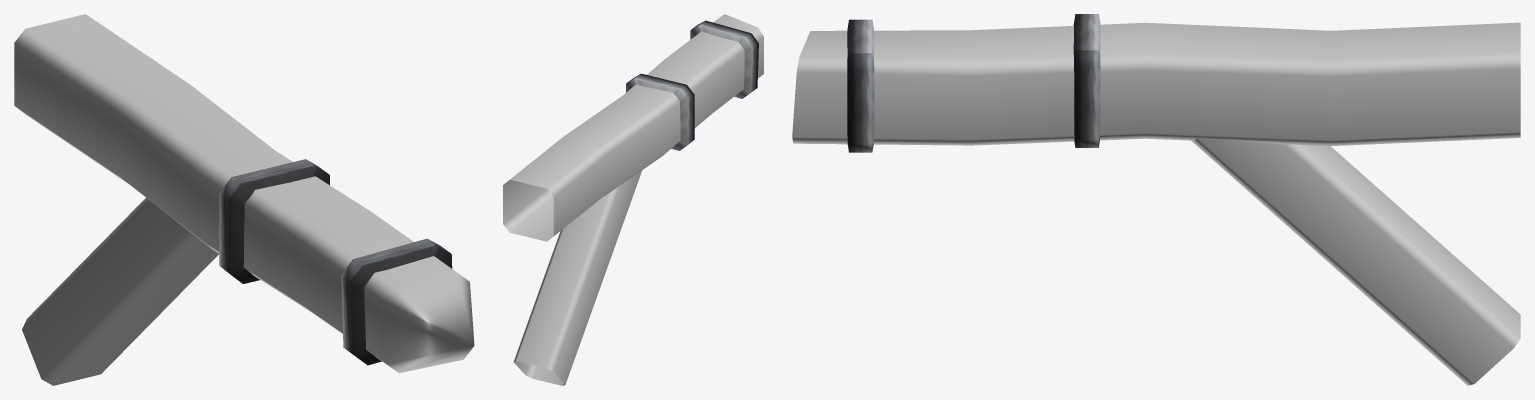
Rendered from ElevatorBeam.fbx.
3 views of the same model, side by side, from view 1: azimuth 30°, elevation 25°; view 2: azimuth 150°, elevation 25°; view 3: azimuth 270°, elevation 25° (orthographic). The views are drawn at different scales.
Visible parts, largest first — view 1: Mesh; view 2: Mesh; view 3: Mesh.
Part boxes in pixels (bbox=[...]): Mesh: bbox=[14, 14, 474, 385]; Mesh: bbox=[503, 14, 763, 385]; Mesh: bbox=[792, 14, 1520, 385].
Bounding box in the file's own units: 29.22 × 87.66 × 167.
